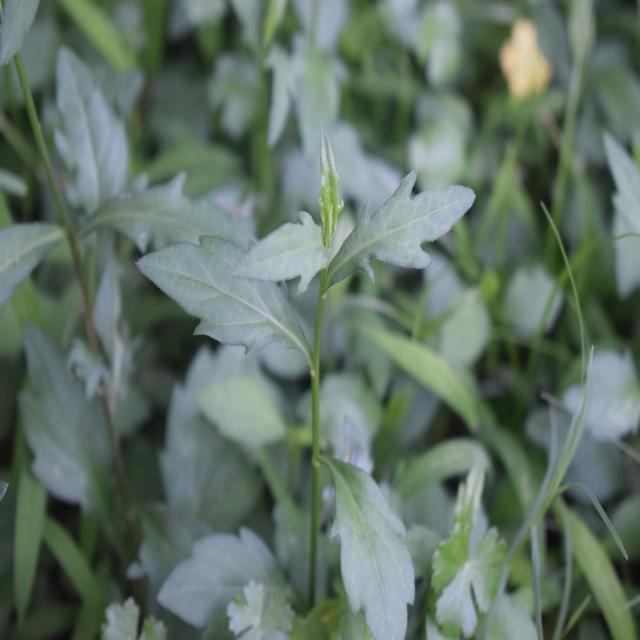Indian aster: (180, 131, 463, 563)
